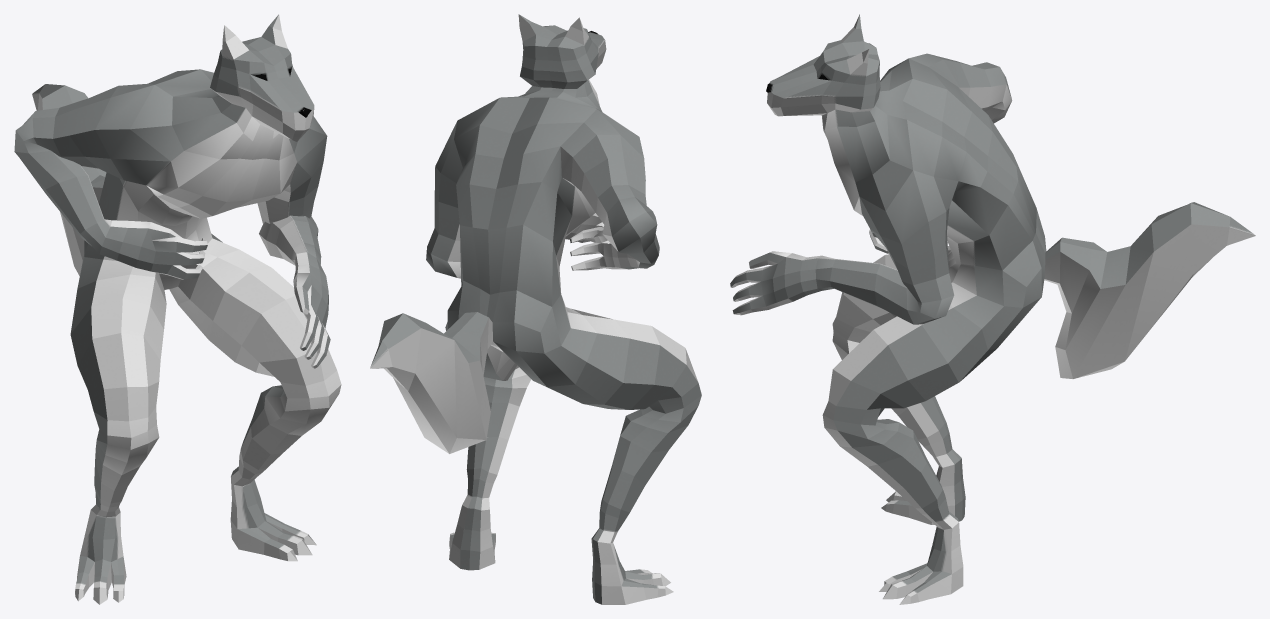
File: WolfIdle_(78).obj
The picture shows the model from 3 angles, left to right: view 1: azimuth 30°, elevation 25°; view 2: azimuth 150°, elevation 25°; view 3: azimuth 270°, elevation 25°; orthographic projection. The views are drawn at different scales.
Visible parts, largest first — view 1: Box001; view 2: Box001; view 3: Box001.
Boxes of the visible parts, box(x1,y1,x2,y2) form: Box001: box(14, 14, 341, 604); Box001: box(370, 14, 701, 604); Box001: box(730, 14, 1255, 604).
Bounding box in the file's own units: 65.77 × 132 × 116.
